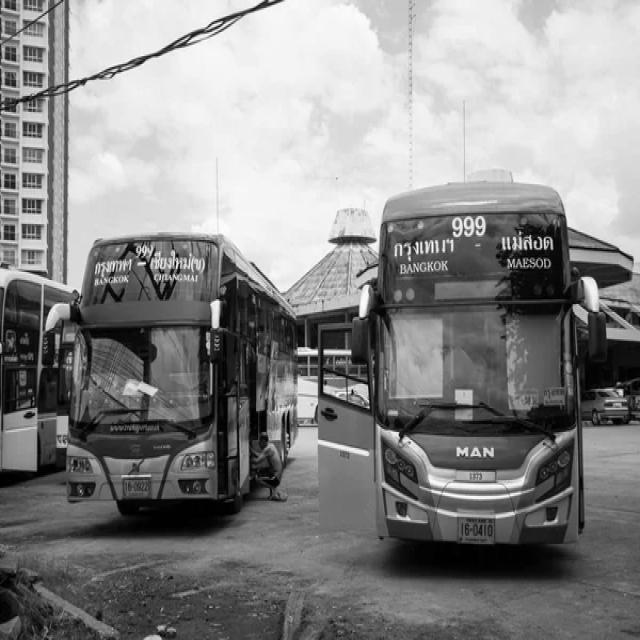Bus: (319, 181, 606, 546), (48, 234, 298, 515)
